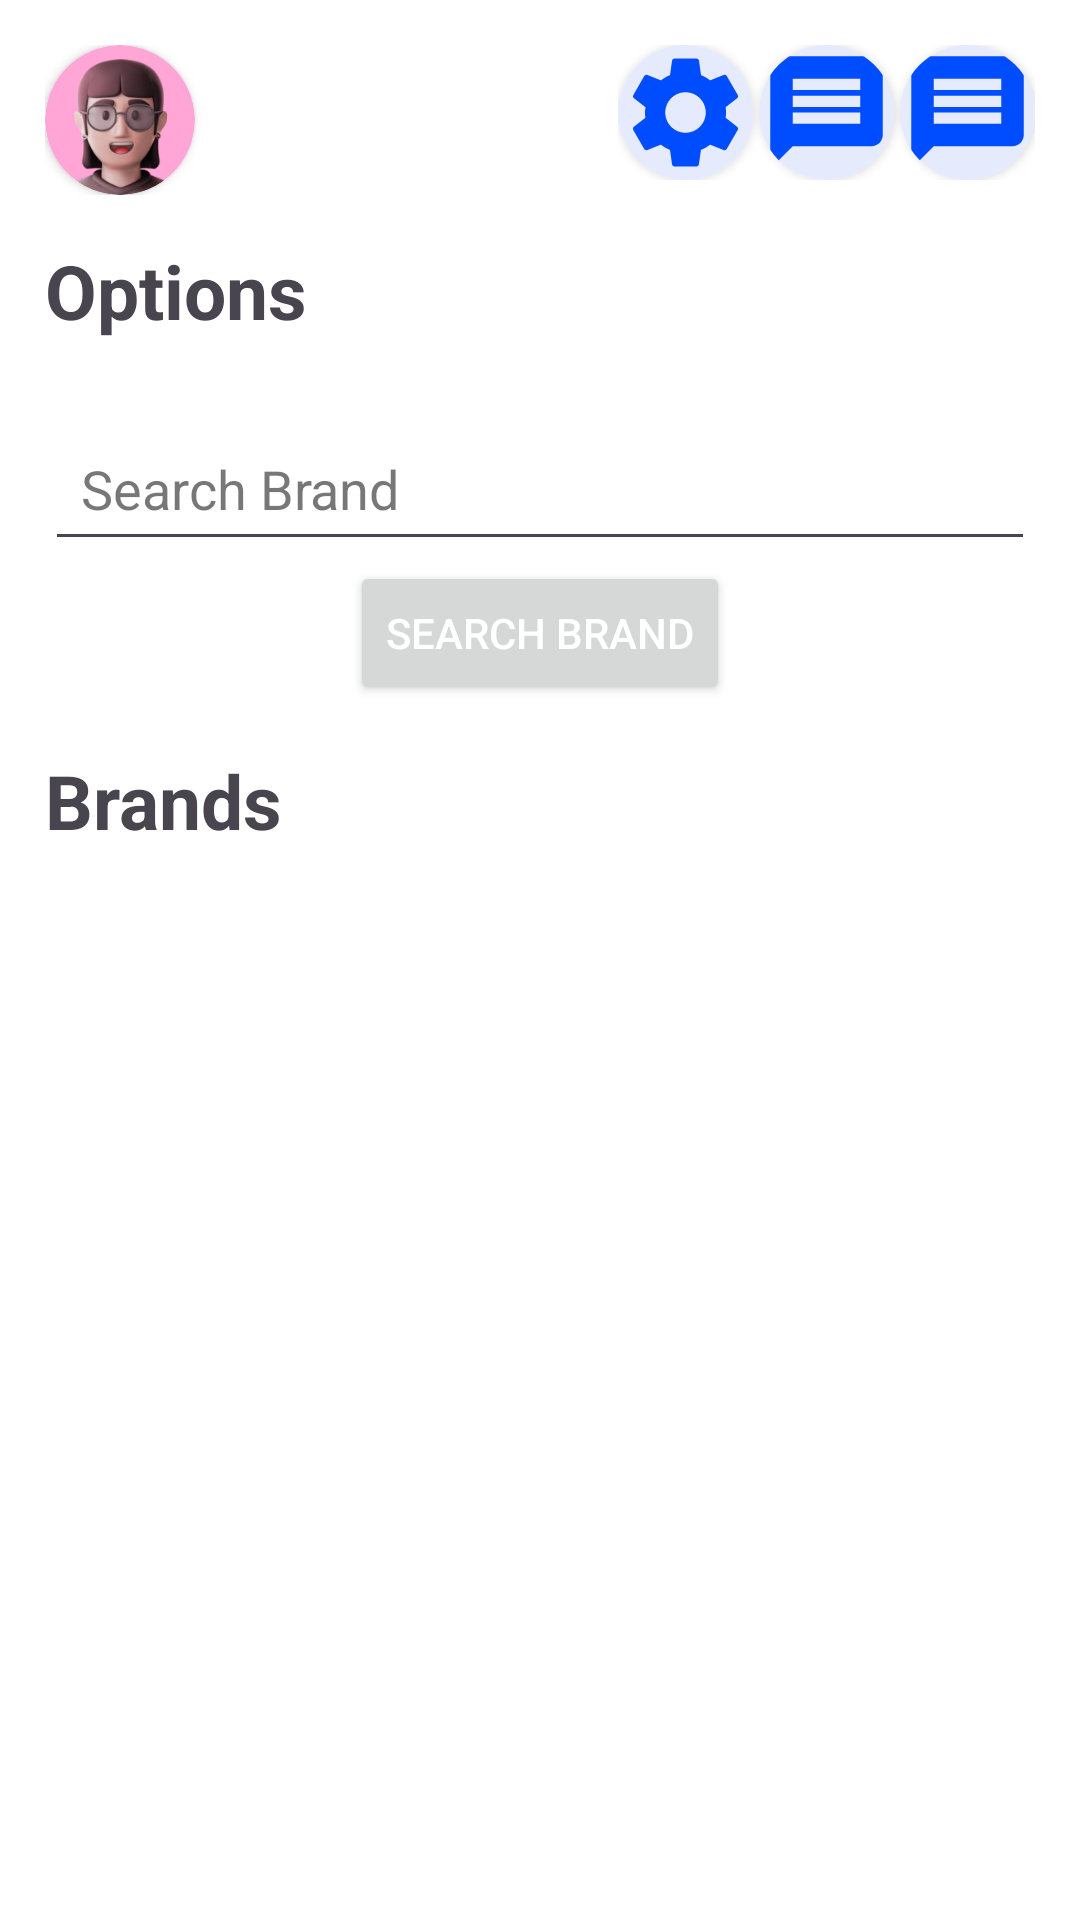

Point at icon controls on the screen. Image size 1080px x 1920px, points as (x=x, y=y).
message: (x=826, y=112), (x=967, y=112)
settings: (x=685, y=112)
user: (x=120, y=120)
